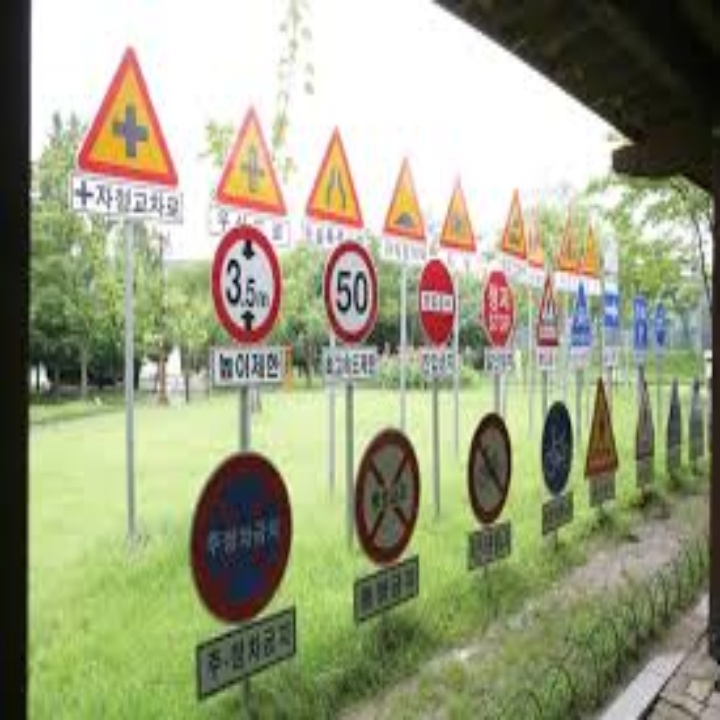bump: (382, 152, 426, 240)
inter: (104, 96, 158, 161)
